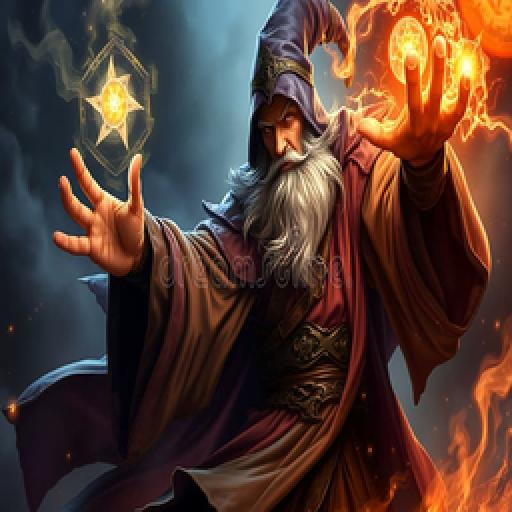wizards: (56, 1, 492, 510)
